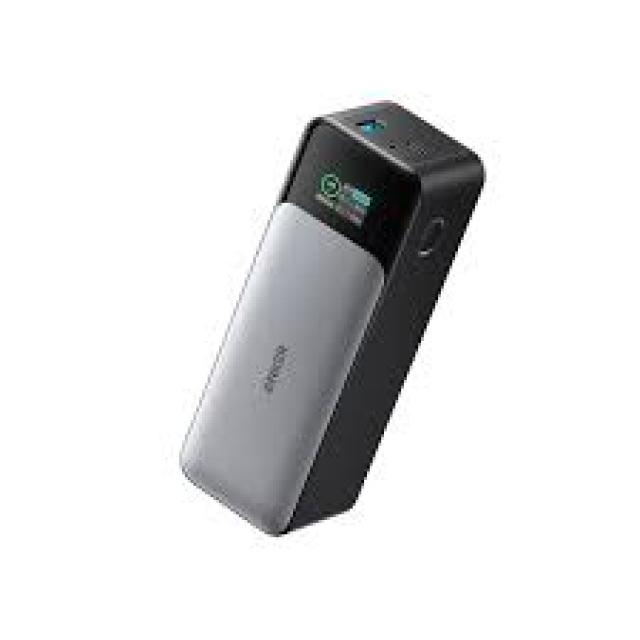power_bank: (175, 99, 490, 535)
